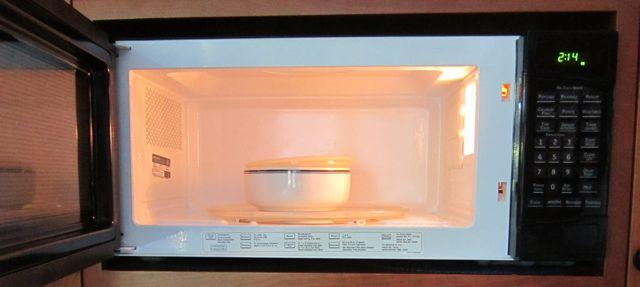controlled_fire: (124, 67, 480, 231)
